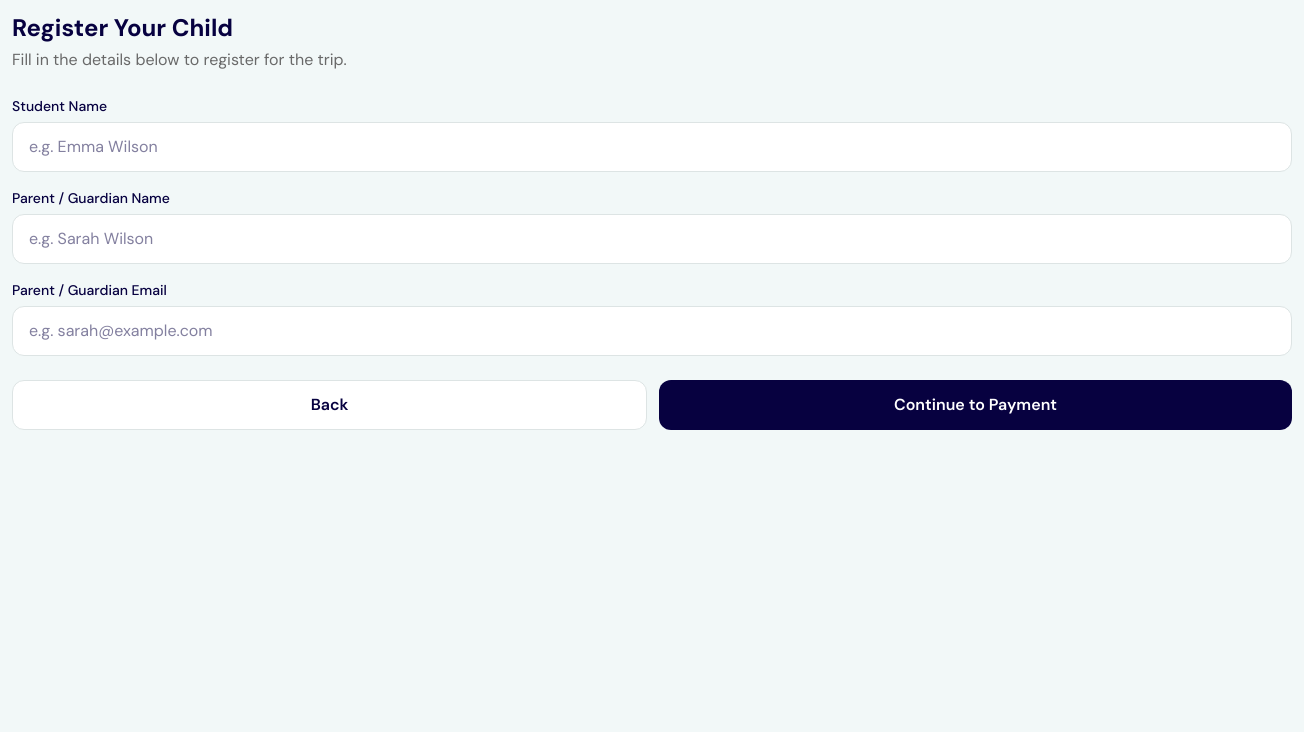
Test: RegistrationForm validation › shows required errors when submitting empty form
This screenshot has width=1304, height=732.
Click the button "Continue to Payment" at (976, 405), box [659,380,1292,430]
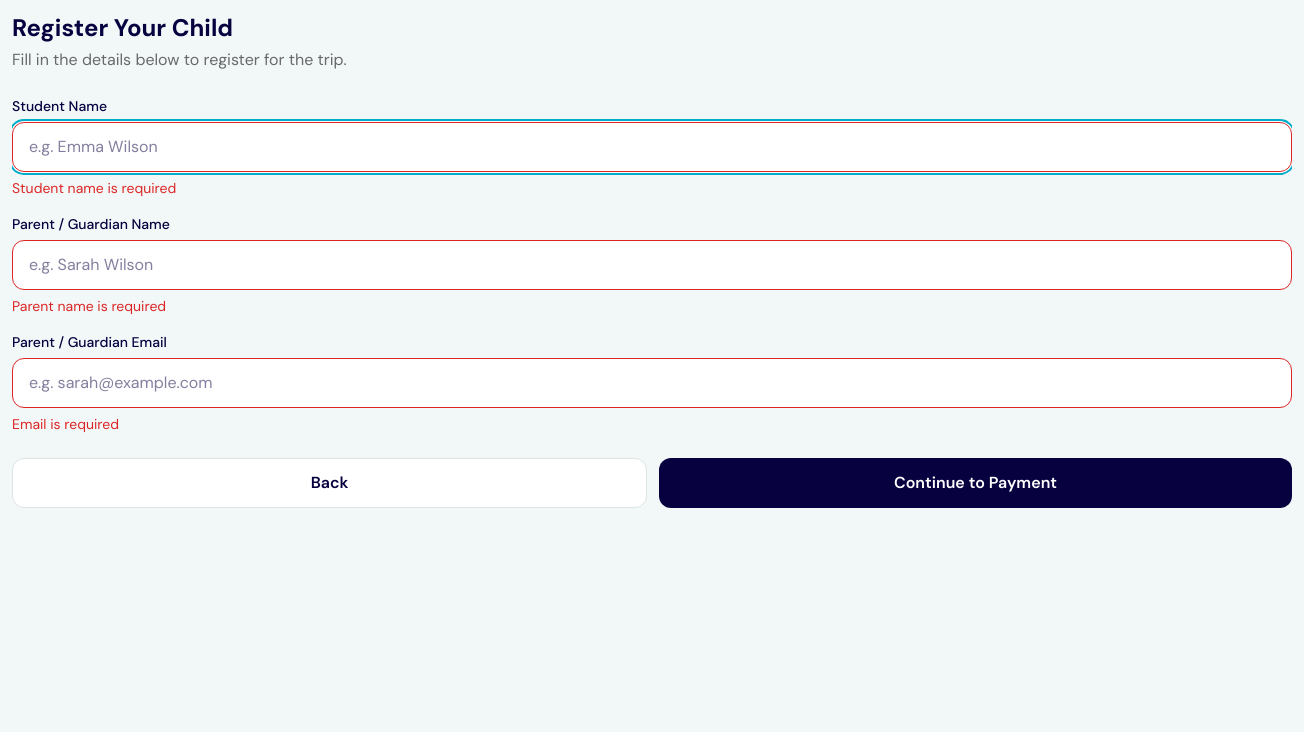
expect the text "Student name is required" is shown: met, box [12,179,176,197]
expect the text "Parent name is required" is shown: met, box [12,297,166,315]
expect the text "Email is required" is shown: met, box [12,415,119,433]
